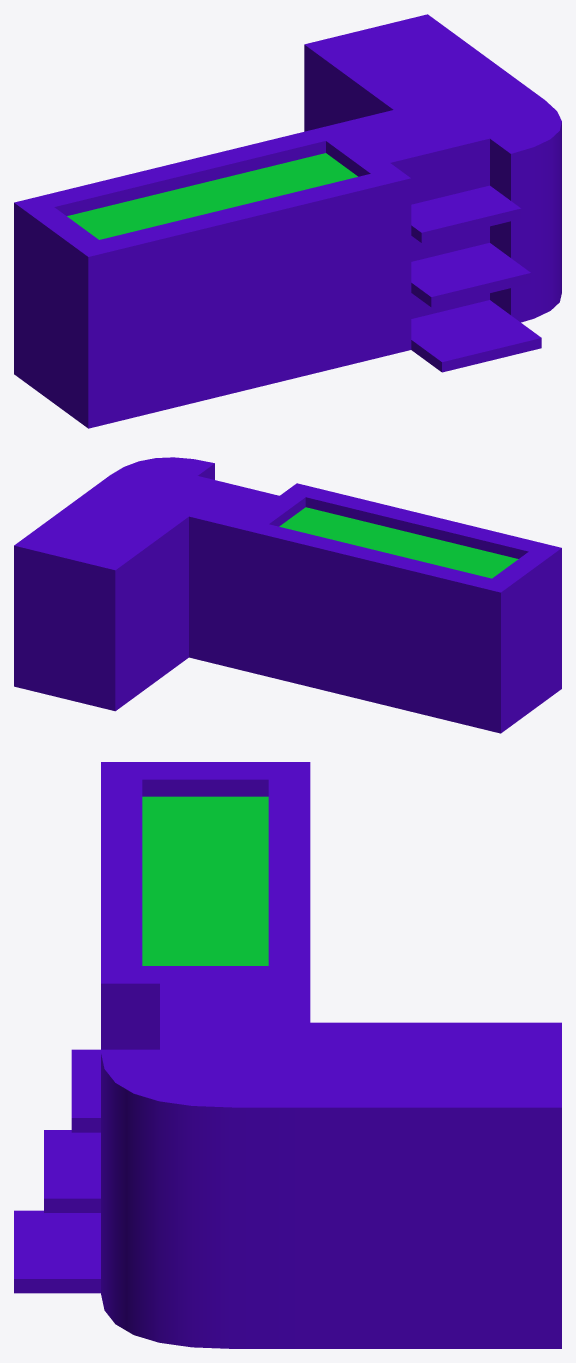
Rendered from tight_table2.fbx.
The picture shows the model from 3 angles, top to bottom: view 1: azimuth 30°, elevation 25°; view 2: azimuth 150°, elevation 25°; view 3: azimuth 270°, elevation 25°; orthographic projection. The views are drawn at different scales.
Parts seen in each view (by area): view 1: Box004; view 2: Box004; view 3: Box004.
Boxes of the visible parts, x1,y1,x2,y2 form: Box004: (14,14,561,428); Box004: (14,457,561,733); Box004: (14,762,561,1348).
Size of the model in its own units: 39.43 by 12.85 by 26.43.
